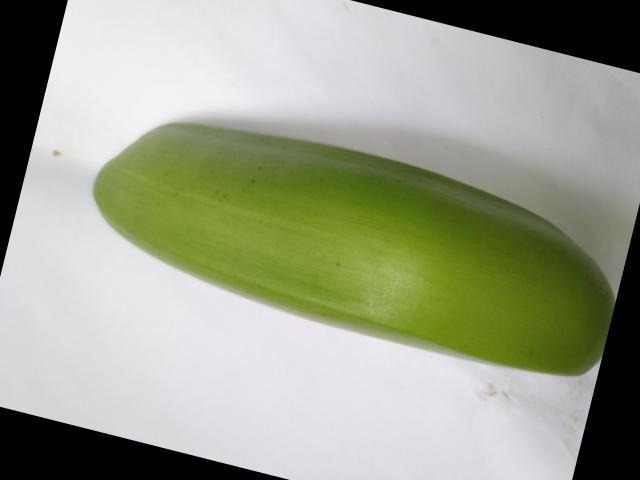freshunripe: (77, 95, 610, 402)
